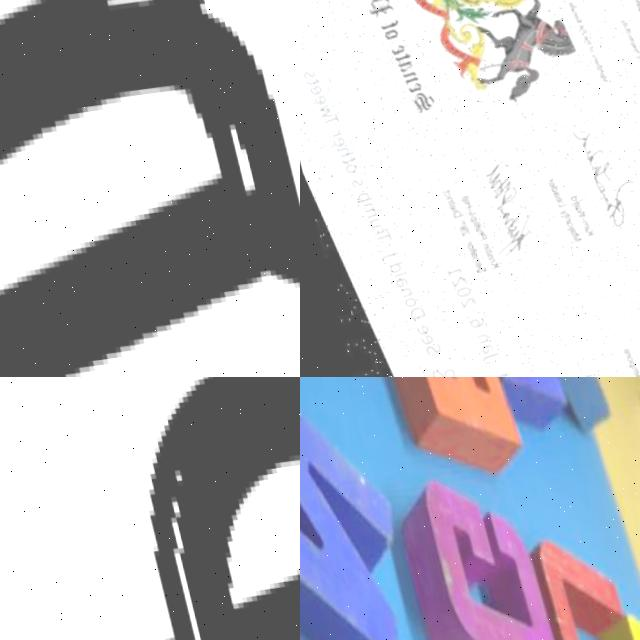0: (441, 284, 461, 299)
1: (432, 264, 453, 279)
2: (446, 295, 466, 309), (437, 275, 457, 289), (448, 228, 461, 237)
6: (455, 315, 474, 330)
8: (447, 223, 460, 231)
B: (454, 377, 579, 445)
D: (0, 0, 300, 377)
E: (375, 377, 527, 493)
G: (387, 473, 561, 640)
N: (300, 377, 437, 640)
P: (142, 377, 300, 640)
U: (511, 501, 640, 640)
